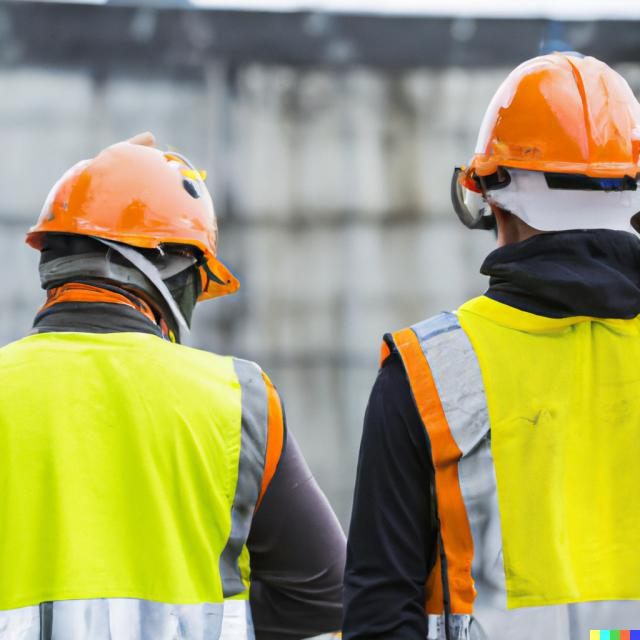Reflective-Jacket: (377, 246, 640, 621), (1, 329, 286, 627)
Safety-Helmet: (24, 136, 238, 294), (455, 48, 640, 192)
